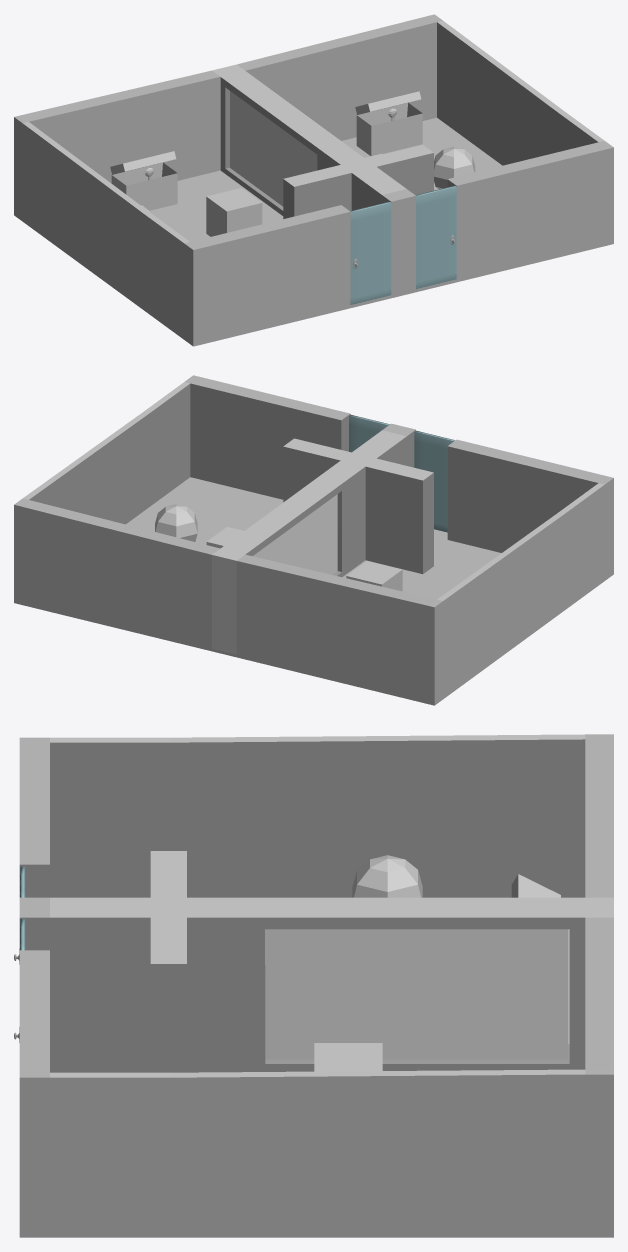
The model's file is Room_01.fbx.
The picture shows the model from 3 angles, top to bottom: view 1: azimuth 30°, elevation 25°; view 2: azimuth 150°, elevation 25°; view 3: azimuth 270°, elevation 25°; orthographic projection. The views are drawn at different scales.
Parts seen in each view (by area): view 1: stage; view 2: stage; view 3: stage.
Boxes of the visible parts, left/top/right/bottom form: stage: left=14, top=14, right=613, bottom=346; stage: left=14, top=375, right=613, bottom=705; stage: left=14, top=734, right=613, bottom=1237.
Bounding box in the file's own units: 40.85 × 9.13 × 30.47.
